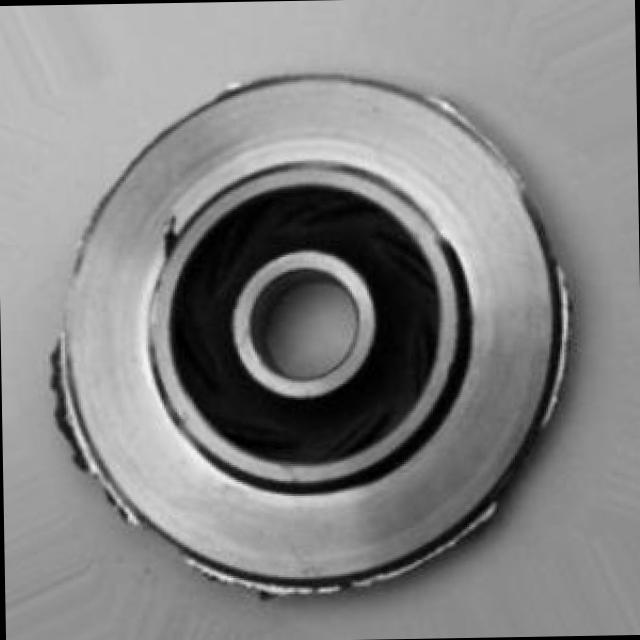Defect: (40, 346, 90, 438)
